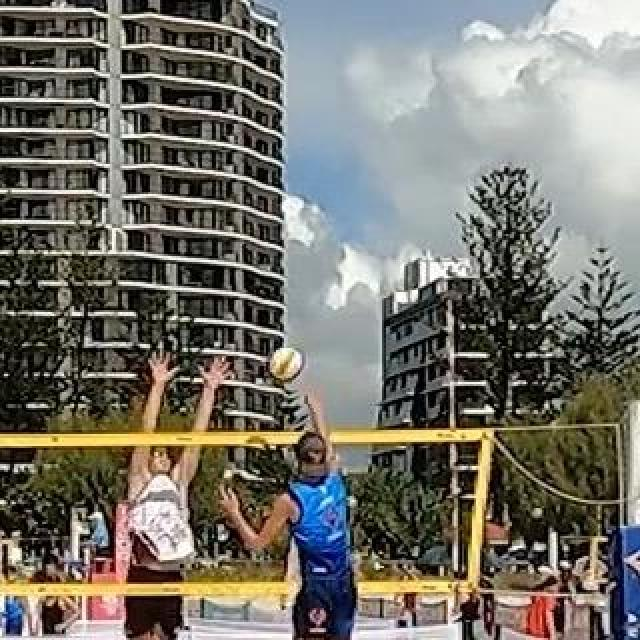volleyball: (269, 348, 303, 382)
